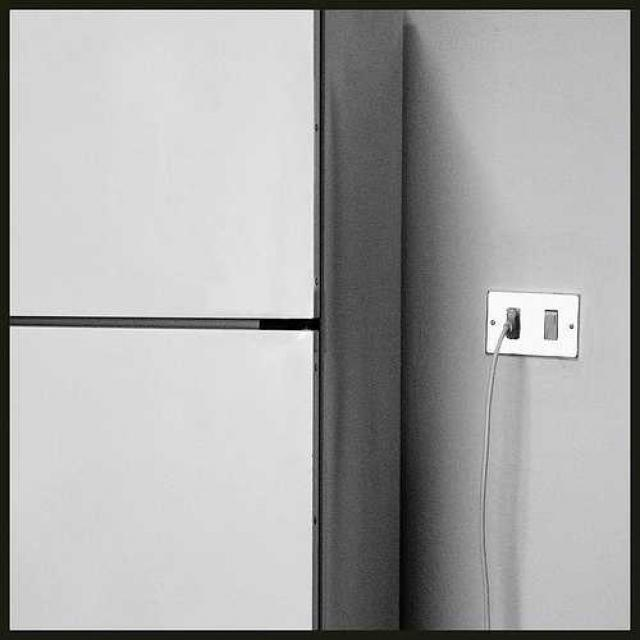refrigerator: (7, 5, 326, 640)
